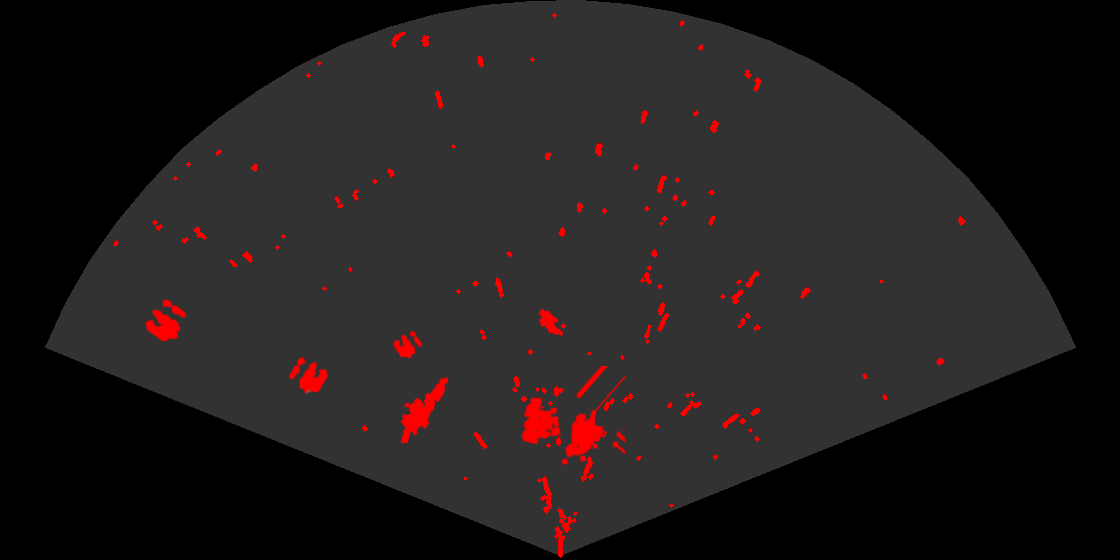AUV: (537, 307, 565, 338)
ball: (143, 297, 188, 343), (287, 355, 330, 395), (392, 329, 424, 360)
cage: (520, 366, 625, 467)
frogman: (399, 376, 450, 443)
